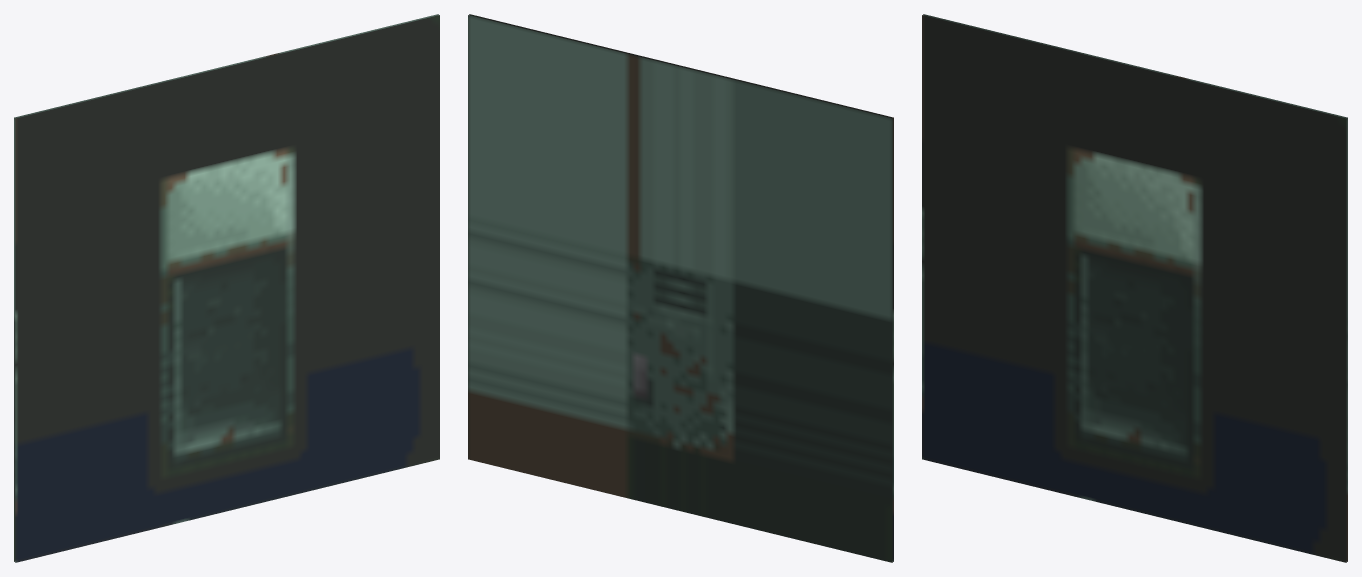
The model's file is Locker.glb.
The picture shows the model from 3 angles, left to right: view 1: azimuth 30°, elevation 25°; view 2: azimuth 150°, elevation 25°; view 3: azimuth 330°, elevation 25°; orthographic projection.
Parts seen in each view (by area): view 1: LockerBack, Locker01; view 2: Locker01, LockerBack; view 3: LockerBack, Locker01.
Boxes of the visible parts, left/top/right/bottom form: LockerBack: left=15, top=15, right=439, bottom=562; Locker01: left=14, top=14, right=438, bottom=561; Locker01: left=468, top=15, right=892, bottom=562; LockerBack: left=469, top=14, right=893, bottom=561; LockerBack: left=922, top=15, right=1346, bottom=562; Locker01: left=923, top=14, right=1347, bottom=561.
Size of the model in its own units: 2 by 2 by 0.0109.
Materials: 1 (1 with a texture image).
